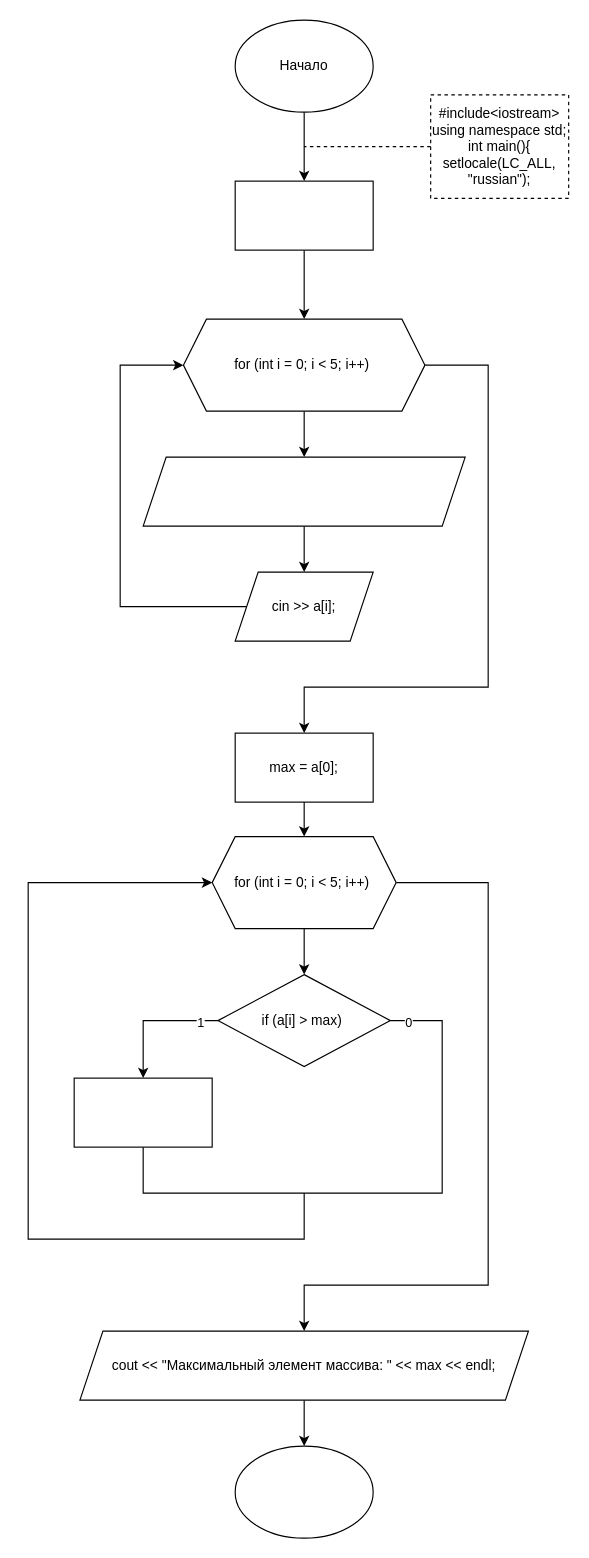
Image size: 589x1558. Some labels were removed from this diagram. The centre of each missing label's shape, as x and y in pixels:
cout << "Введите 5 элементов массива: ";: (303,491)
int a[5], max;: (303,215)
max = a[i];: (142,1112)
Конец: (303,1491)
